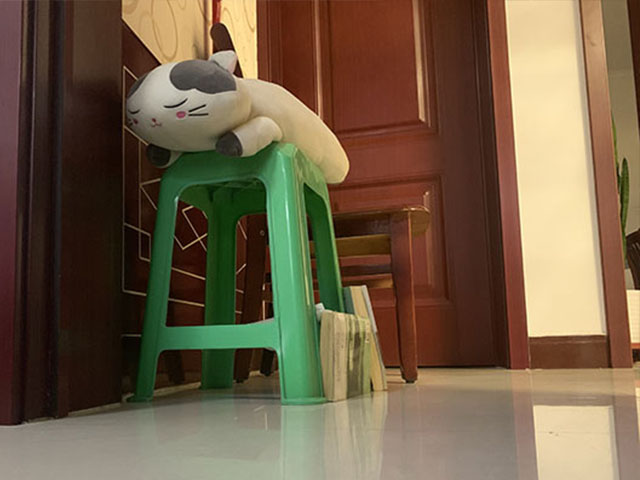stool: (122, 148, 359, 405), (243, 203, 419, 384)
